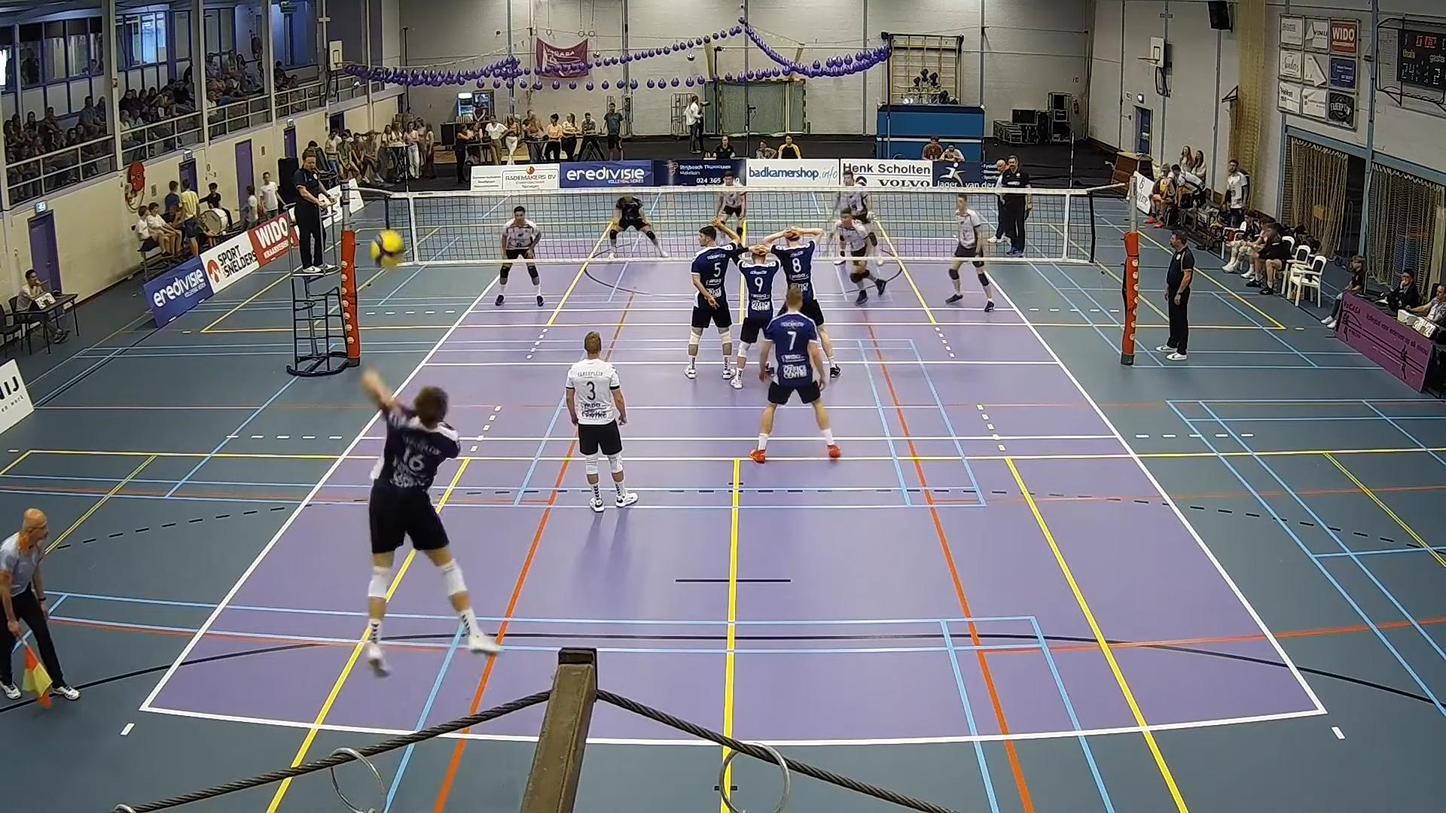Player: (750, 286, 840, 463), (566, 332, 636, 512), (764, 227, 840, 377), (685, 222, 742, 379), (731, 240, 781, 388), (946, 193, 994, 312), (495, 206, 544, 306), (834, 212, 886, 304), (609, 191, 668, 257), (834, 171, 870, 224), (715, 171, 746, 223)
Serve: (354, 360, 488, 659)
ball: (377, 232, 407, 255)
